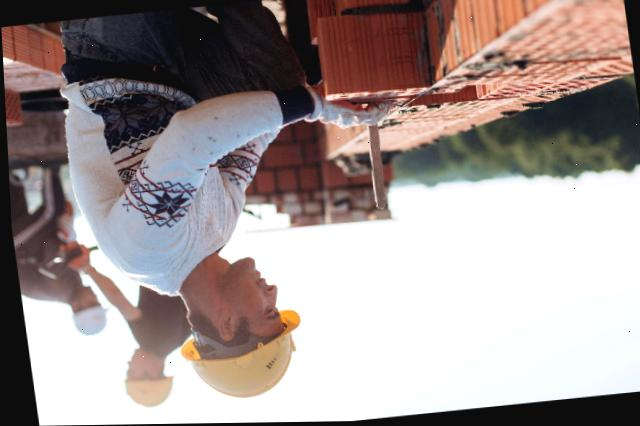helmet: (173, 318, 310, 400), (118, 369, 173, 407)
